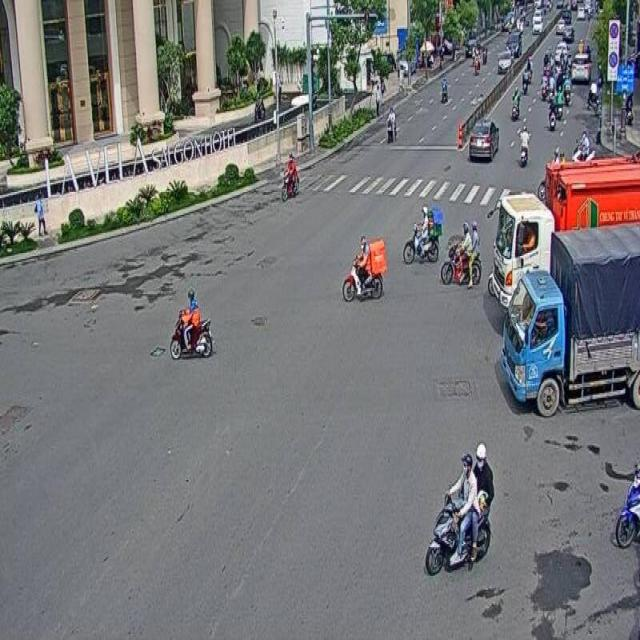car: (468, 117, 498, 163)
motorcycle: (423, 442, 494, 571), (170, 286, 212, 359), (441, 218, 482, 289), (342, 232, 384, 300), (402, 204, 442, 265), (281, 151, 299, 201)
truck: (500, 225, 640, 410), (494, 153, 638, 310)
